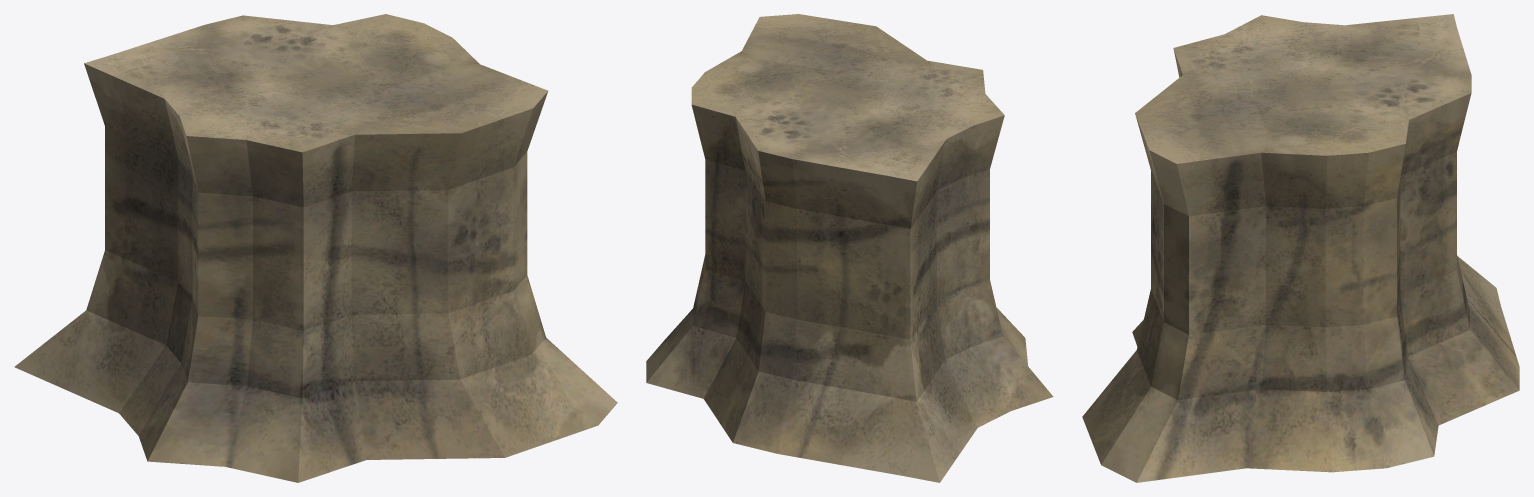
The model's file is SharpRock2.gltf.
3 views of the same model, side by side, from view 1: azimuth 30°, elevation 25°; view 2: azimuth 150°, elevation 25°; view 3: azimuth 270°, elevation 25° (orthographic). The views are drawn at different scales.
Visible parts, largest first — view 1: SharpRock3; view 2: SharpRock3; view 3: SharpRock3.
Boxes of the visible parts, x1=… form: SharpRock3: x1=14, y1=14, x2=617, y2=482; SharpRock3: x1=646, y1=14, x2=1053, y2=482; SharpRock3: x1=1082, y1=14, x2=1519, y2=482.
Bounding box in the file's own units: 5.38 × 3.81 × 5.1.
Materials: 1 (1 with a texture image).
